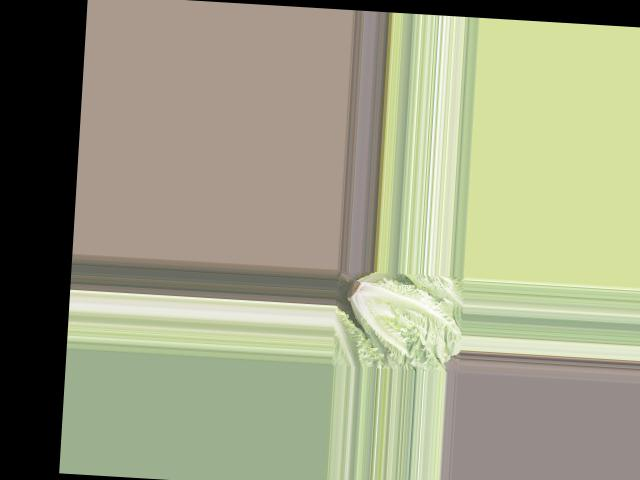lettuce: (338, 268, 463, 366)
